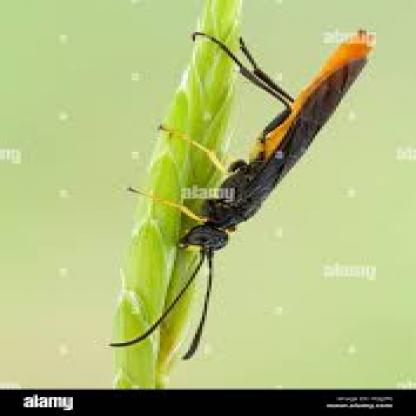sawfly: (108, 25, 372, 358)
